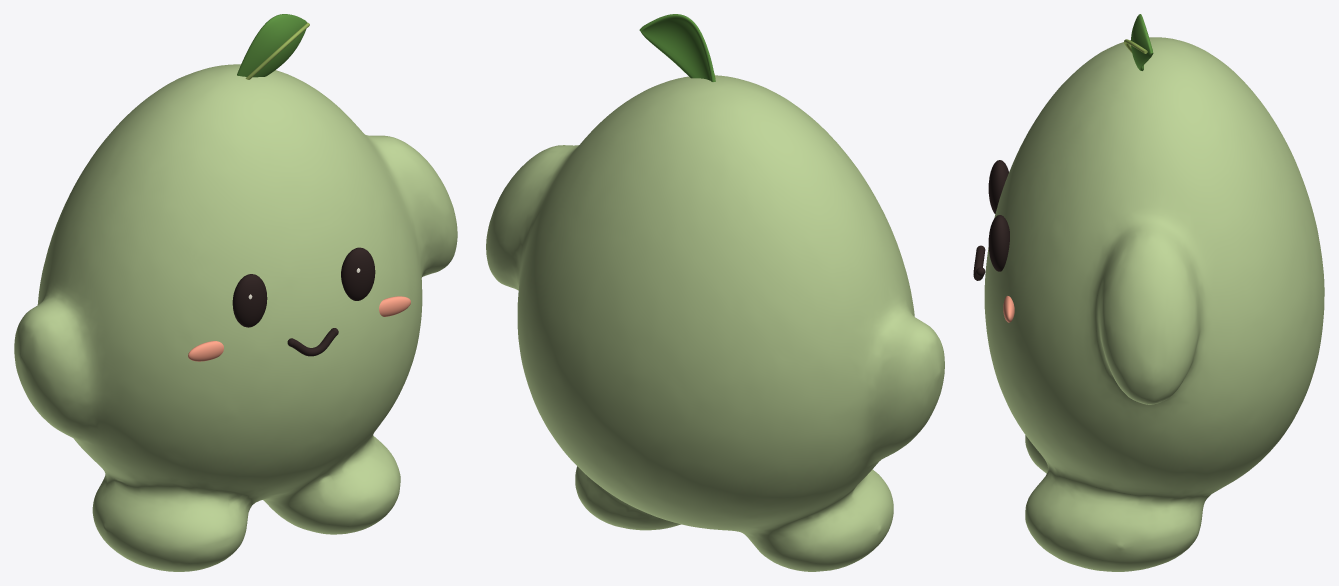
File: pip-sprite-v4.glb
3 views of the same model, side by side, from view 1: azimuth 30°, elevation 25°; view 2: azimuth 150°, elevation 25°; view 3: azimuth 270°, elevation 25° (orthographic). The views are drawn at different scales.
Visible parts, largest first — view 1: Sprite body, Sprout tuft, Seed eye, Seed eye.001, Cheek; view 2: Sprite body, Sprout tuft; view 3: Sprite body, Seed eye.001, Sprout tuft, Seed eye.
Part boxes in pixels (box(x1,y1,x2,y2)): Sprite body: box(14, 64, 457, 571); Sprout tuft: box(237, 14, 307, 77); Seed eye: box(232, 274, 267, 327); Seed eye.001: box(341, 247, 375, 300); Cheek: box(188, 341, 223, 361); Sprite body: box(486, 75, 944, 571); Sprout tuft: box(639, 14, 715, 81); Sprite body: box(984, 37, 1324, 571); Seed eye.001: box(988, 215, 1009, 271); Sprout tuft: box(1131, 14, 1153, 70); Seed eye: box(988, 160, 1008, 213).
Size of the model in its own units: 1.52 by 1.7 by 1.03.
